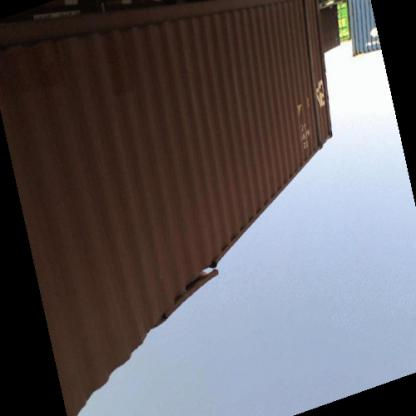Damage: (144, 260, 236, 334), (293, 1, 331, 156), (107, 72, 147, 106)
